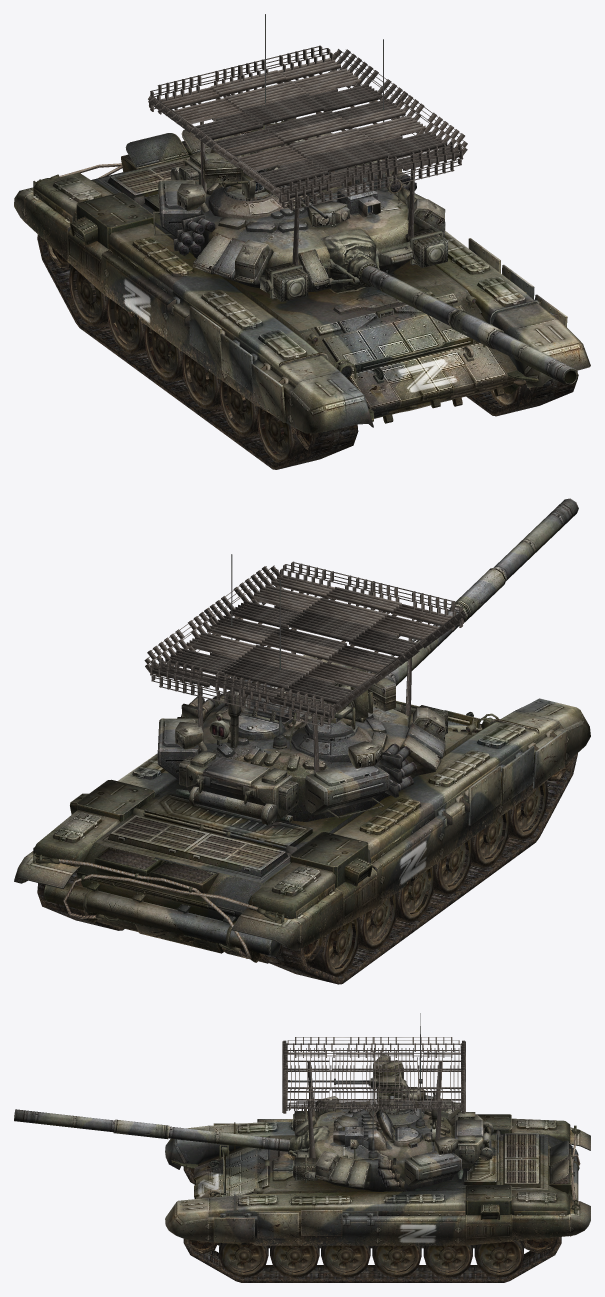
File: tank.glb
3 views of the same model, one above another, from view 1: azimuth 30°, elevation 25°; view 2: azimuth 150°, elevation 25°; view 3: azimuth 270°, elevation 25° (orthographic). The views are drawn at different scales.
Visible parts, largest first — view 1: Mesh23_TC01_T90_body_D_2022_0, Mesh23_TC01_T90_Turret_d_2022_0, Mesh23_TC01_T90_caterpillar_D_0, Mesh28_armorcage_d_0, Mesh25_armorcage_d_0, Mesh27_armorcage_d_0, Mesh31_armorcage_d_0, Mesh29_armorcage_d_0, Mesh32_armorcage_d_0, Mesh30_armorcage_d_0, Mesh9_TC01_T90_Turret_d_2022_0, Mesh26_armorcage_d_0; view 2: Mesh23_TC01_T90_body_D_2022_0, Mesh23_TC01_T90_Turret_d_2022_0, Mesh23_TC01_T90_caterpillar_D_0, Mesh28_armorcage_d_0, Mesh27_armorcage_d_0, Mesh25_armorcage_d_0, Mesh22_TC01_T90_body_D_2022_0, Mesh32_armorcage_d_0, Mesh29_armorcage_d_0, Mesh31_armorcage_d_0, Mesh30_armorcage_d_0, Mesh4_TC01_T90_Turret_D_0 (+2 smaller); view 3: Mesh23_TC01_T90_body_D_2022_0, Mesh23_TC01_T90_Turret_d_2022_0, Mesh23_TC01_T90_caterpillar_D_0, Mesh28_armorcage_d_0, Mesh30_armorcage_d_0, Mesh29_armorcage_d_0, Mesh25_armorcage_d_0, Mesh27_armorcage_d_0, Mesh4_TC01_T90_Turret_D_0, Mesh26_armorcage_d_0, Mesh31_armorcage_d_0.
Part boxes in pixels (x1,y1,x2,y2): Mesh23_TC01_T90_body_D_2022_0: [14, 120, 590, 433]; Mesh23_TC01_T90_Turret_d_2022_0: [153, 14, 578, 385]; Mesh23_TC01_T90_caterpillar_D_0: [37, 234, 577, 469]; Mesh28_armorcage_d_0: [190, 84, 425, 171]; Mesh25_armorcage_d_0: [160, 58, 361, 124]; Mesh27_armorcage_d_0: [259, 131, 460, 198]; Mesh31_armorcage_d_0: [278, 141, 463, 210]; Mesh29_armorcage_d_0: [328, 49, 467, 159]; Mesh32_armorcage_d_0: [149, 45, 333, 114]; Mesh30_armorcage_d_0: [148, 95, 287, 201]; Mesh9_TC01_T90_Turret_d_2022_0: [285, 242, 444, 299]; Mesh26_armorcage_d_0: [292, 155, 414, 265]; Mesh23_TC01_T90_body_D_2022_0: [14, 655, 590, 963]; Mesh23_TC01_T90_Turret_d_2022_0: [157, 498, 578, 825]; Mesh23_TC01_T90_caterpillar_D_0: [37, 753, 577, 984]; Mesh28_armorcage_d_0: [186, 600, 422, 688]; Mesh27_armorcage_d_0: [251, 574, 452, 640]; Mesh25_armorcage_d_0: [152, 648, 352, 716]; Mesh22_TC01_T90_body_D_2022_0: [43, 883, 280, 955]; Mesh32_armorcage_d_0: [150, 658, 334, 726]; Mesh29_armorcage_d_0: [144, 565, 283, 676]; Mesh31_armorcage_d_0: [280, 561, 464, 630]; Mesh30_armorcage_d_0: [326, 611, 466, 717]; Mesh4_TC01_T90_Turret_D_0: [229, 714, 286, 740]; Mesh23_TC01_T90_body_D_2022_0: [165, 1114, 590, 1248]; Mesh23_TC01_T90_Turret_d_2022_0: [14, 1013, 493, 1191]; Mesh23_TC01_T90_caterpillar_D_0: [183, 1167, 561, 1282]; Mesh28_armorcage_d_0: [331, 1048, 418, 1109]; Mesh30_armorcage_d_0: [286, 1037, 461, 1057]; Mesh29_armorcage_d_0: [286, 1101, 462, 1111]; Mesh25_armorcage_d_0: [418, 1048, 461, 1109]; Mesh27_armorcage_d_0: [286, 1048, 330, 1109]; Mesh4_TC01_T90_Turret_D_0: [393, 1126, 422, 1146]; Mesh26_armorcage_d_0: [307, 1062, 315, 1158]; Mesh31_armorcage_d_0: [282, 1040, 287, 1113].
Size of the model in its own units: 3.75 by 4.06 by 9.5.
5 materials, 5 textured.
